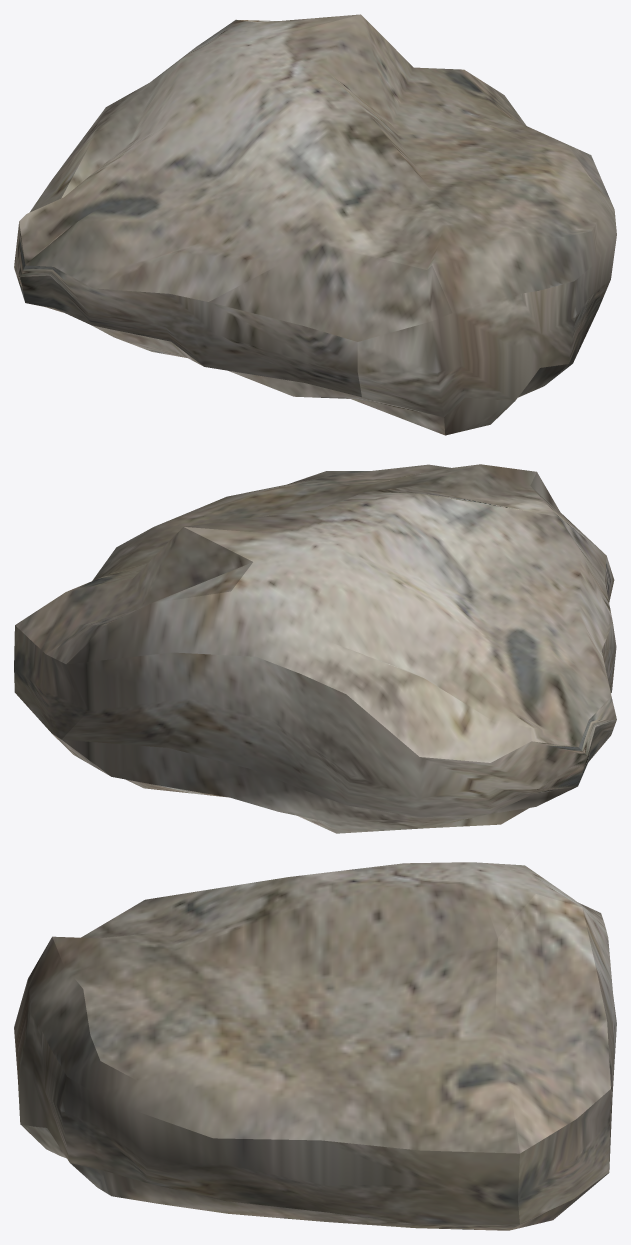
3 renders of one model, top to bottom at view 1: azimuth 30°, elevation 25°; view 2: azimuth 150°, elevation 25°; view 3: azimuth 270°, elevation 25°, orthographic. The views are drawn at different scales.
Parts seen in each view (by area): view 1: Object_10; view 2: Object_10; view 3: Object_10.
Boxes of the visible parts, x1,y1,x2,y2 form: Object_10: (14,14,616,435); Object_10: (14,464,616,833); Object_10: (14,862,616,1230).
Size of the model in its own units: 0.4809 by 0.2341 by 0.4479.
1 material, 1 textured.
